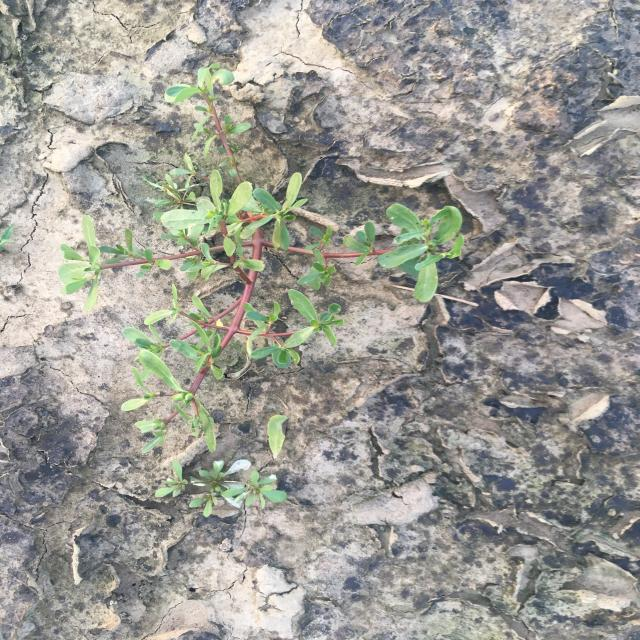Carpetweed: (153, 457, 290, 520)
Purslane: (55, 62, 467, 456)
